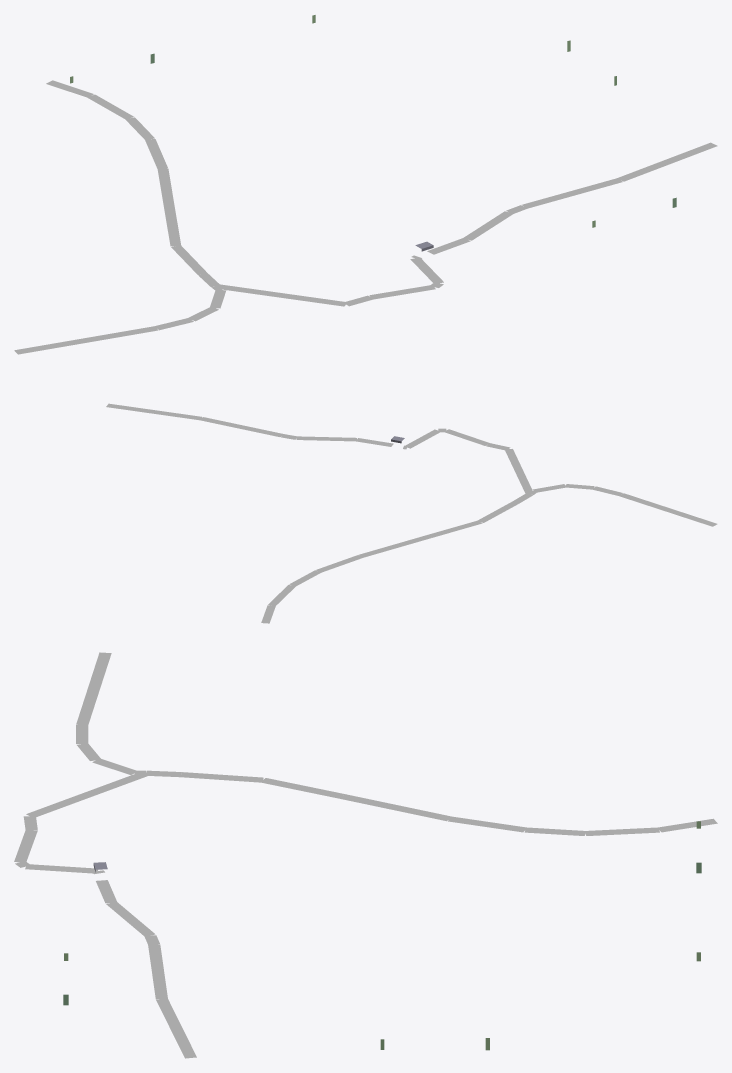
3 views of the same model, one above another, from view 1: azimuth 30°, elevation 25°; view 2: azimuth 150°, elevation 25°; view 3: azimuth 270°, elevation 25° (orthographic). The views are drawn at different scales.
Bounding box in the file's own units: 548 × 9.06 × 400.
